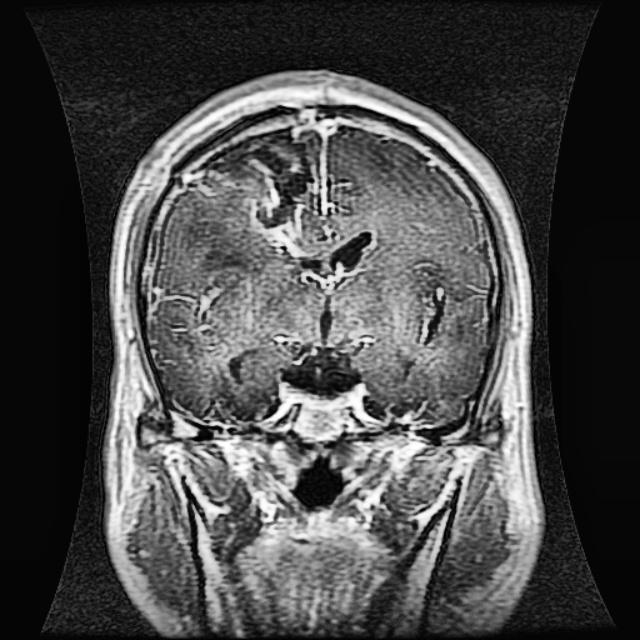Meningioma: (198, 129, 320, 250)
